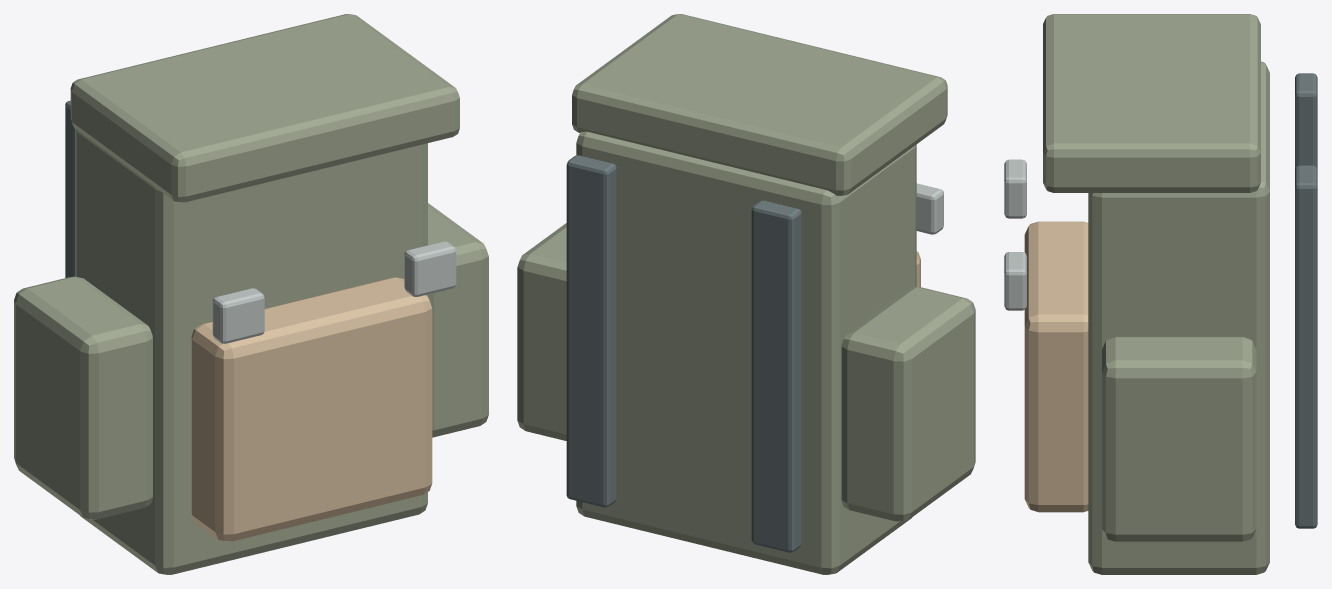
The picture shows the model from 3 angles, left to right: view 1: azimuth 30°, elevation 25°; view 2: azimuth 150°, elevation 25°; view 3: azimuth 270°, elevation 25°; orthographic projection. The views are drawn at different scales.
Visible parts, largest first — view 1: rucksack, front pocket, top flap, side pouch, side pouch.001, strap clasp, strap clasp.001, shoulder strap; view 2: rucksack, top flap, side pouch, shoulder strap.001, shoulder strap, side pouch.001, strap clasp; view 3: rucksack, top flap, side pouch.001, front pocket, shoulder strap.001, shoulder strap, strap clasp, strap clasp.001.
Boxes of the visible parts, x1,y1,x2,y2 form: rucksack: (75, 129, 427, 574); front pocket: (191, 277, 432, 541); top flap: (70, 14, 459, 202); side pouch: (14, 276, 152, 519); side pouch.001: (428, 203, 488, 437); strap clasp: (212, 288, 264, 343); strap clasp.001: (404, 241, 456, 296); shoulder strap: (65, 100, 74, 277); rucksack: (576, 131, 916, 574); top flap: (572, 14, 947, 195); side pouch: (841, 287, 975, 521); shoulder strap.001: (566, 155, 616, 507); shoulder strap: (751, 200, 801, 552); side pouch.001: (517, 223, 566, 440); strap clasp: (916, 183, 943, 234); rucksack: (1088, 61, 1269, 574); top flap: (1043, 14, 1260, 192); side pouch.001: (1102, 336, 1256, 541); front pocket: (1024, 221, 1088, 512); shoulder strap.001: (1295, 165, 1317, 528); shoulder strap: (1295, 73, 1317, 168); strap clasp: (1004, 159, 1026, 218); strap clasp.001: (1004, 252, 1026, 310).
Size of the model in its own units: 0.51 by 0.53 by 0.345.
